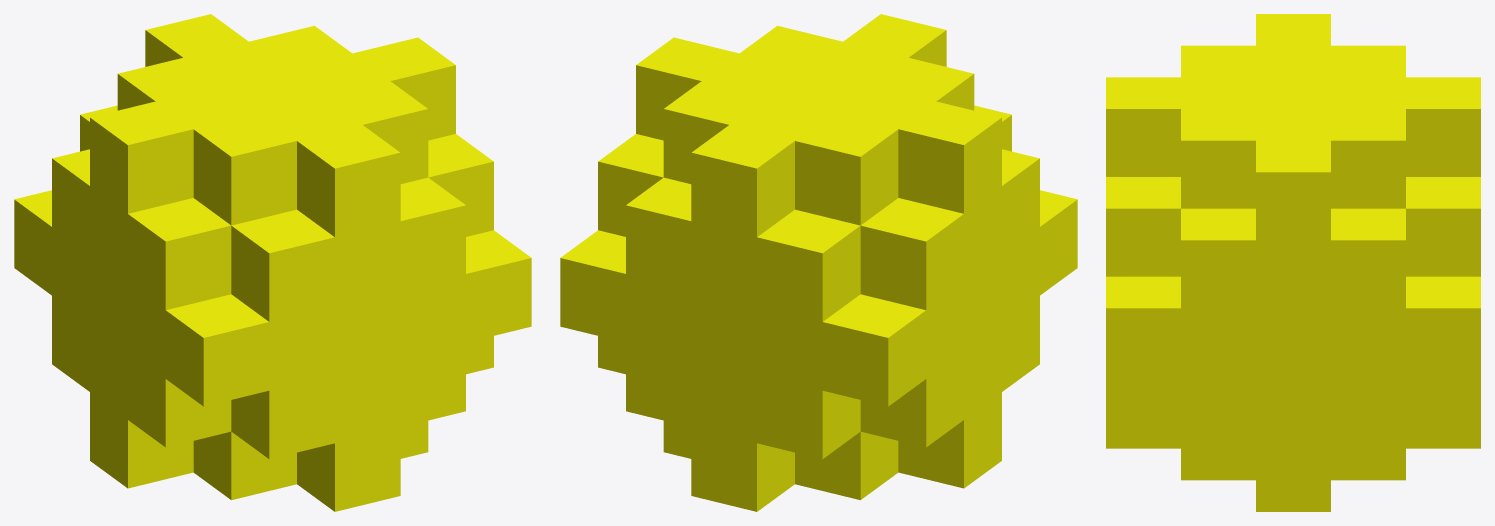
The model's file is Pickable1-0.obj.
3 views of the same model, side by side, from view 1: azimuth 30°, elevation 25°; view 2: azimuth 150°, elevation 25°; view 3: azimuth 270°, elevation 25° (orthographic).
Size of the model in its own units: 0.5 by 0.5 by 0.5.
1 material, 1 textured.
